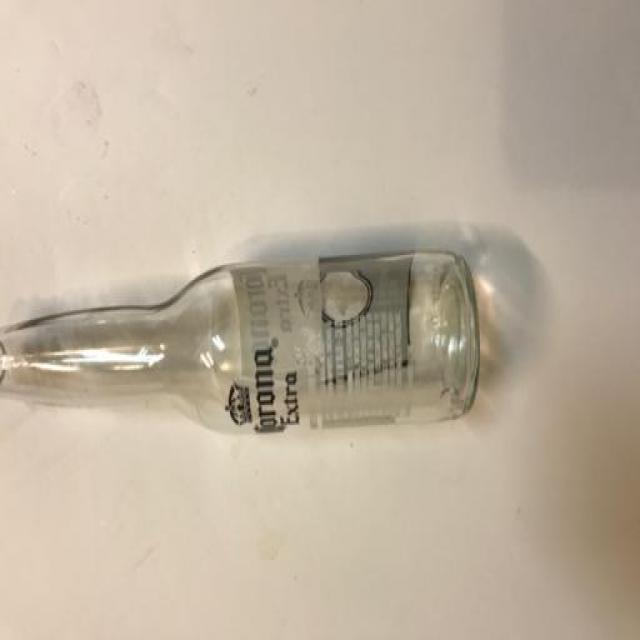glass: (1, 239, 504, 469)
